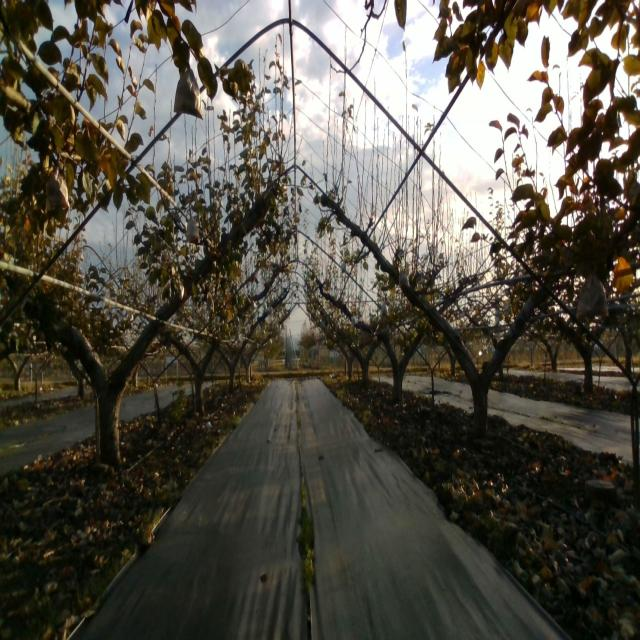pearbags: (173, 65, 204, 120), (576, 272, 609, 321), (45, 175, 70, 213), (186, 215, 199, 242)
